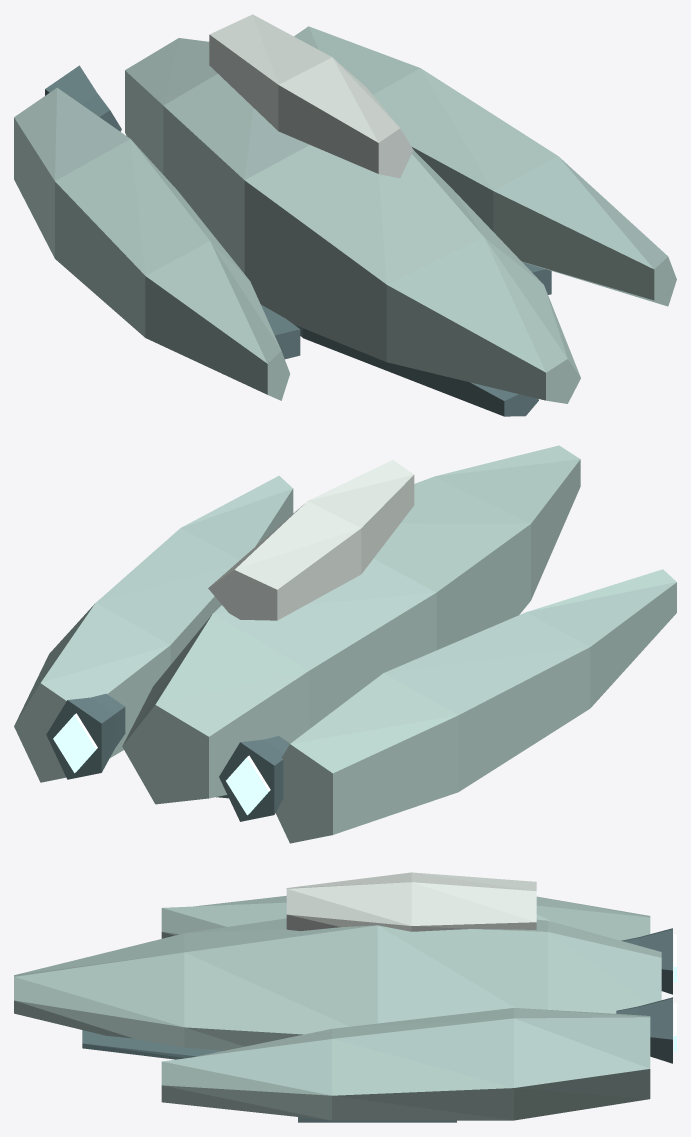
3 renders of one model, top to bottom at view 1: azimuth 30°, elevation 25°; view 2: azimuth 150°, elevation 25°; view 3: azimuth 270°, elevation 25°, orthographic. The views are drawn at different scales.
Bounding box in the file's own units: 9.31 × 4.78 × 14.49.
